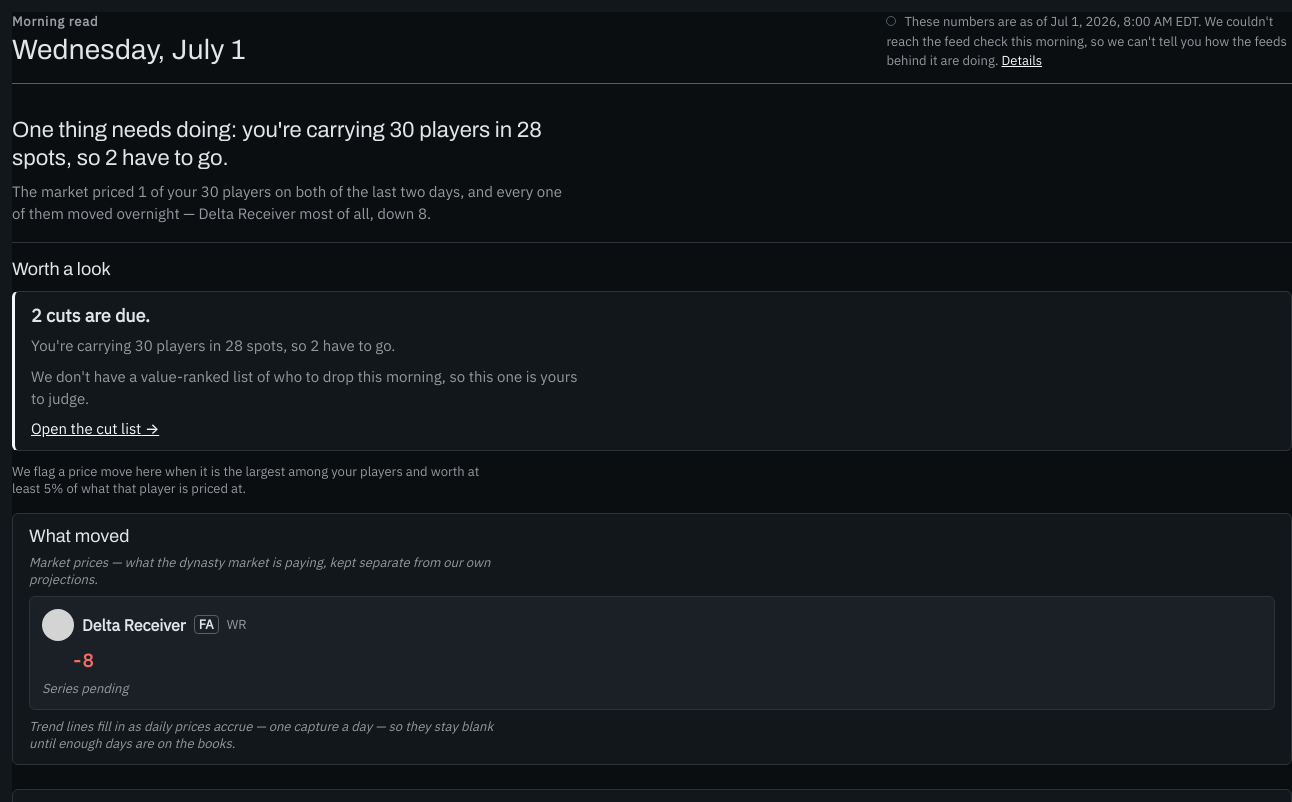
Scenario: DailyWhatChanged › never claims the feeds are fine when it could not read them
The image size is (1292, 802).
Check: the element with test id "wc-freshness" shows "couldn't reach the feed check", box [886,13,1287,69]
Click the button with test id "wc-health-sheet-toggle" at (1022, 61), box [1002,51,1042,70]
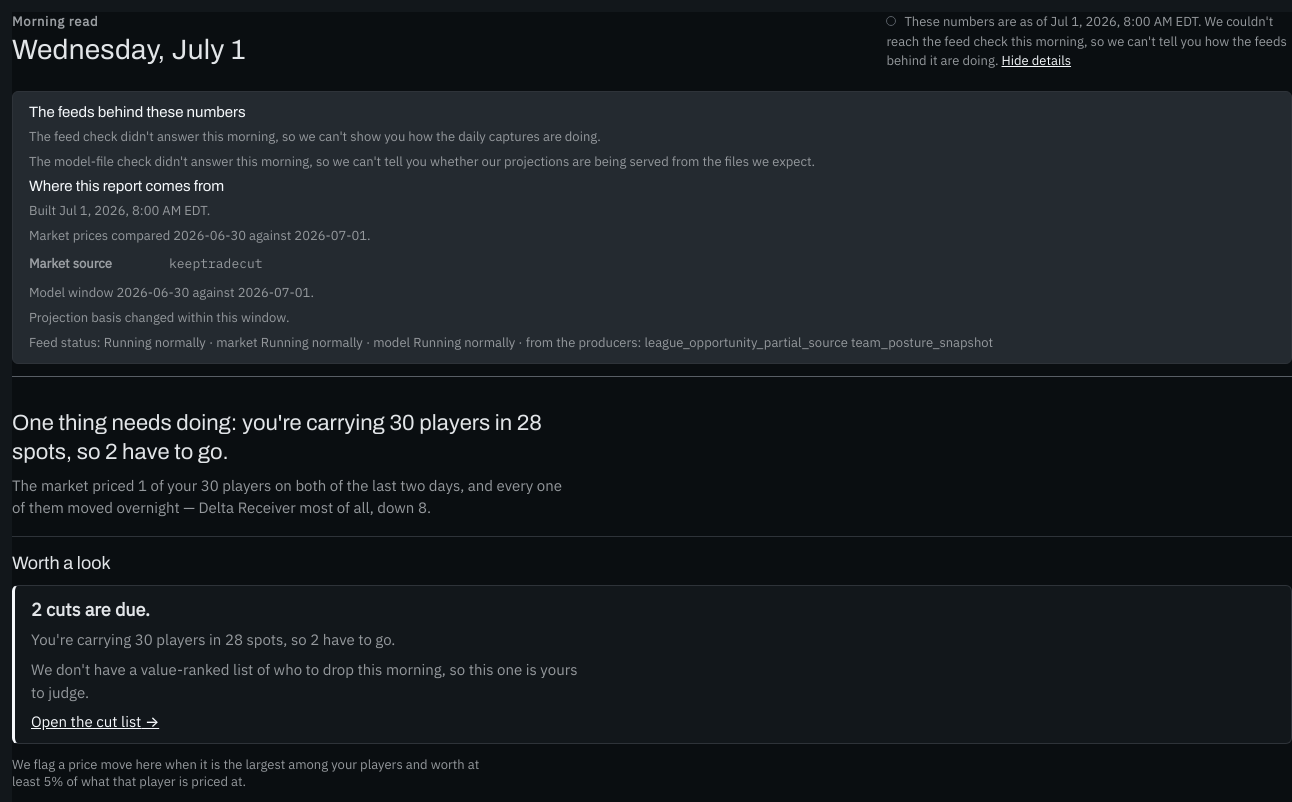
Check: the text "feed check didn't answer this morning" is shown, box [29,128,601,144]
